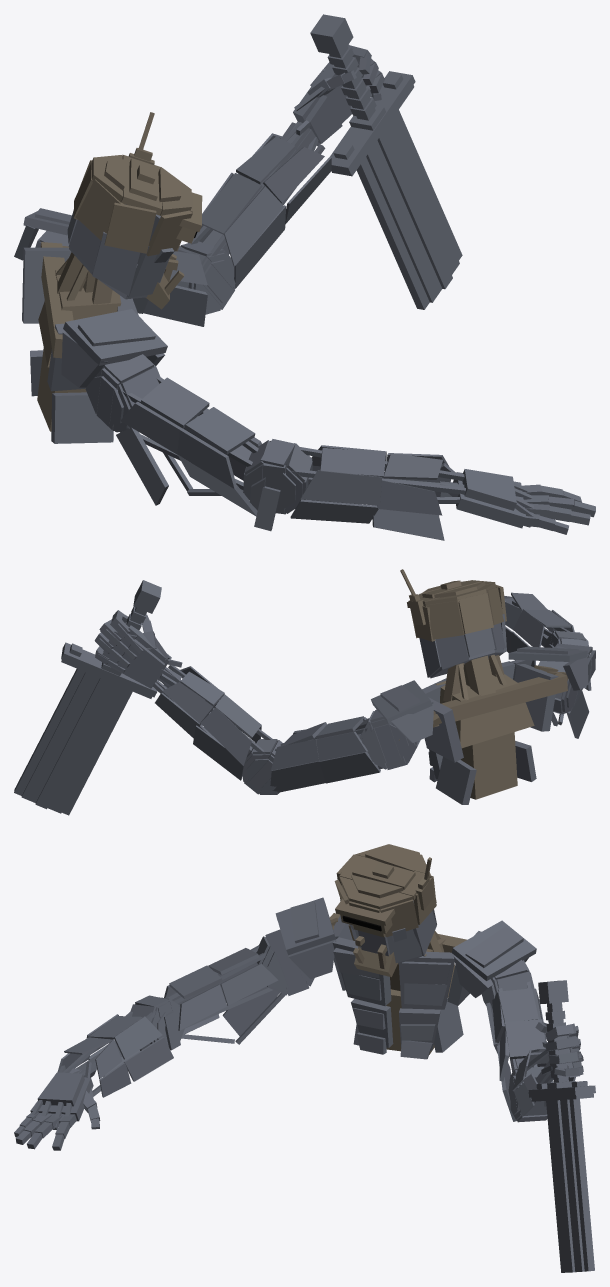
Rendered from robot.glb.
The picture shows the model from 3 angles, top to bottom: view 1: azimuth 30°, elevation 25°; view 2: azimuth 150°, elevation 25°; view 3: azimuth 270°, elevation 25°; orthographic projection. The views are drawn at different scales.
Visible parts, largest first — view 1: robot_сopy_2; view 2: robot_сopy_2; view 3: robot_сopy_2.
Part boxes in pixels (x1,y1,x2,y2): robot_сopy_2: (14, 14, 595, 540); robot_сopy_2: (14, 569, 595, 815); robot_сopy_2: (14, 844, 595, 1272).
Bounding box in the file's own units: 12.82 × 7.41 × 14.09.
